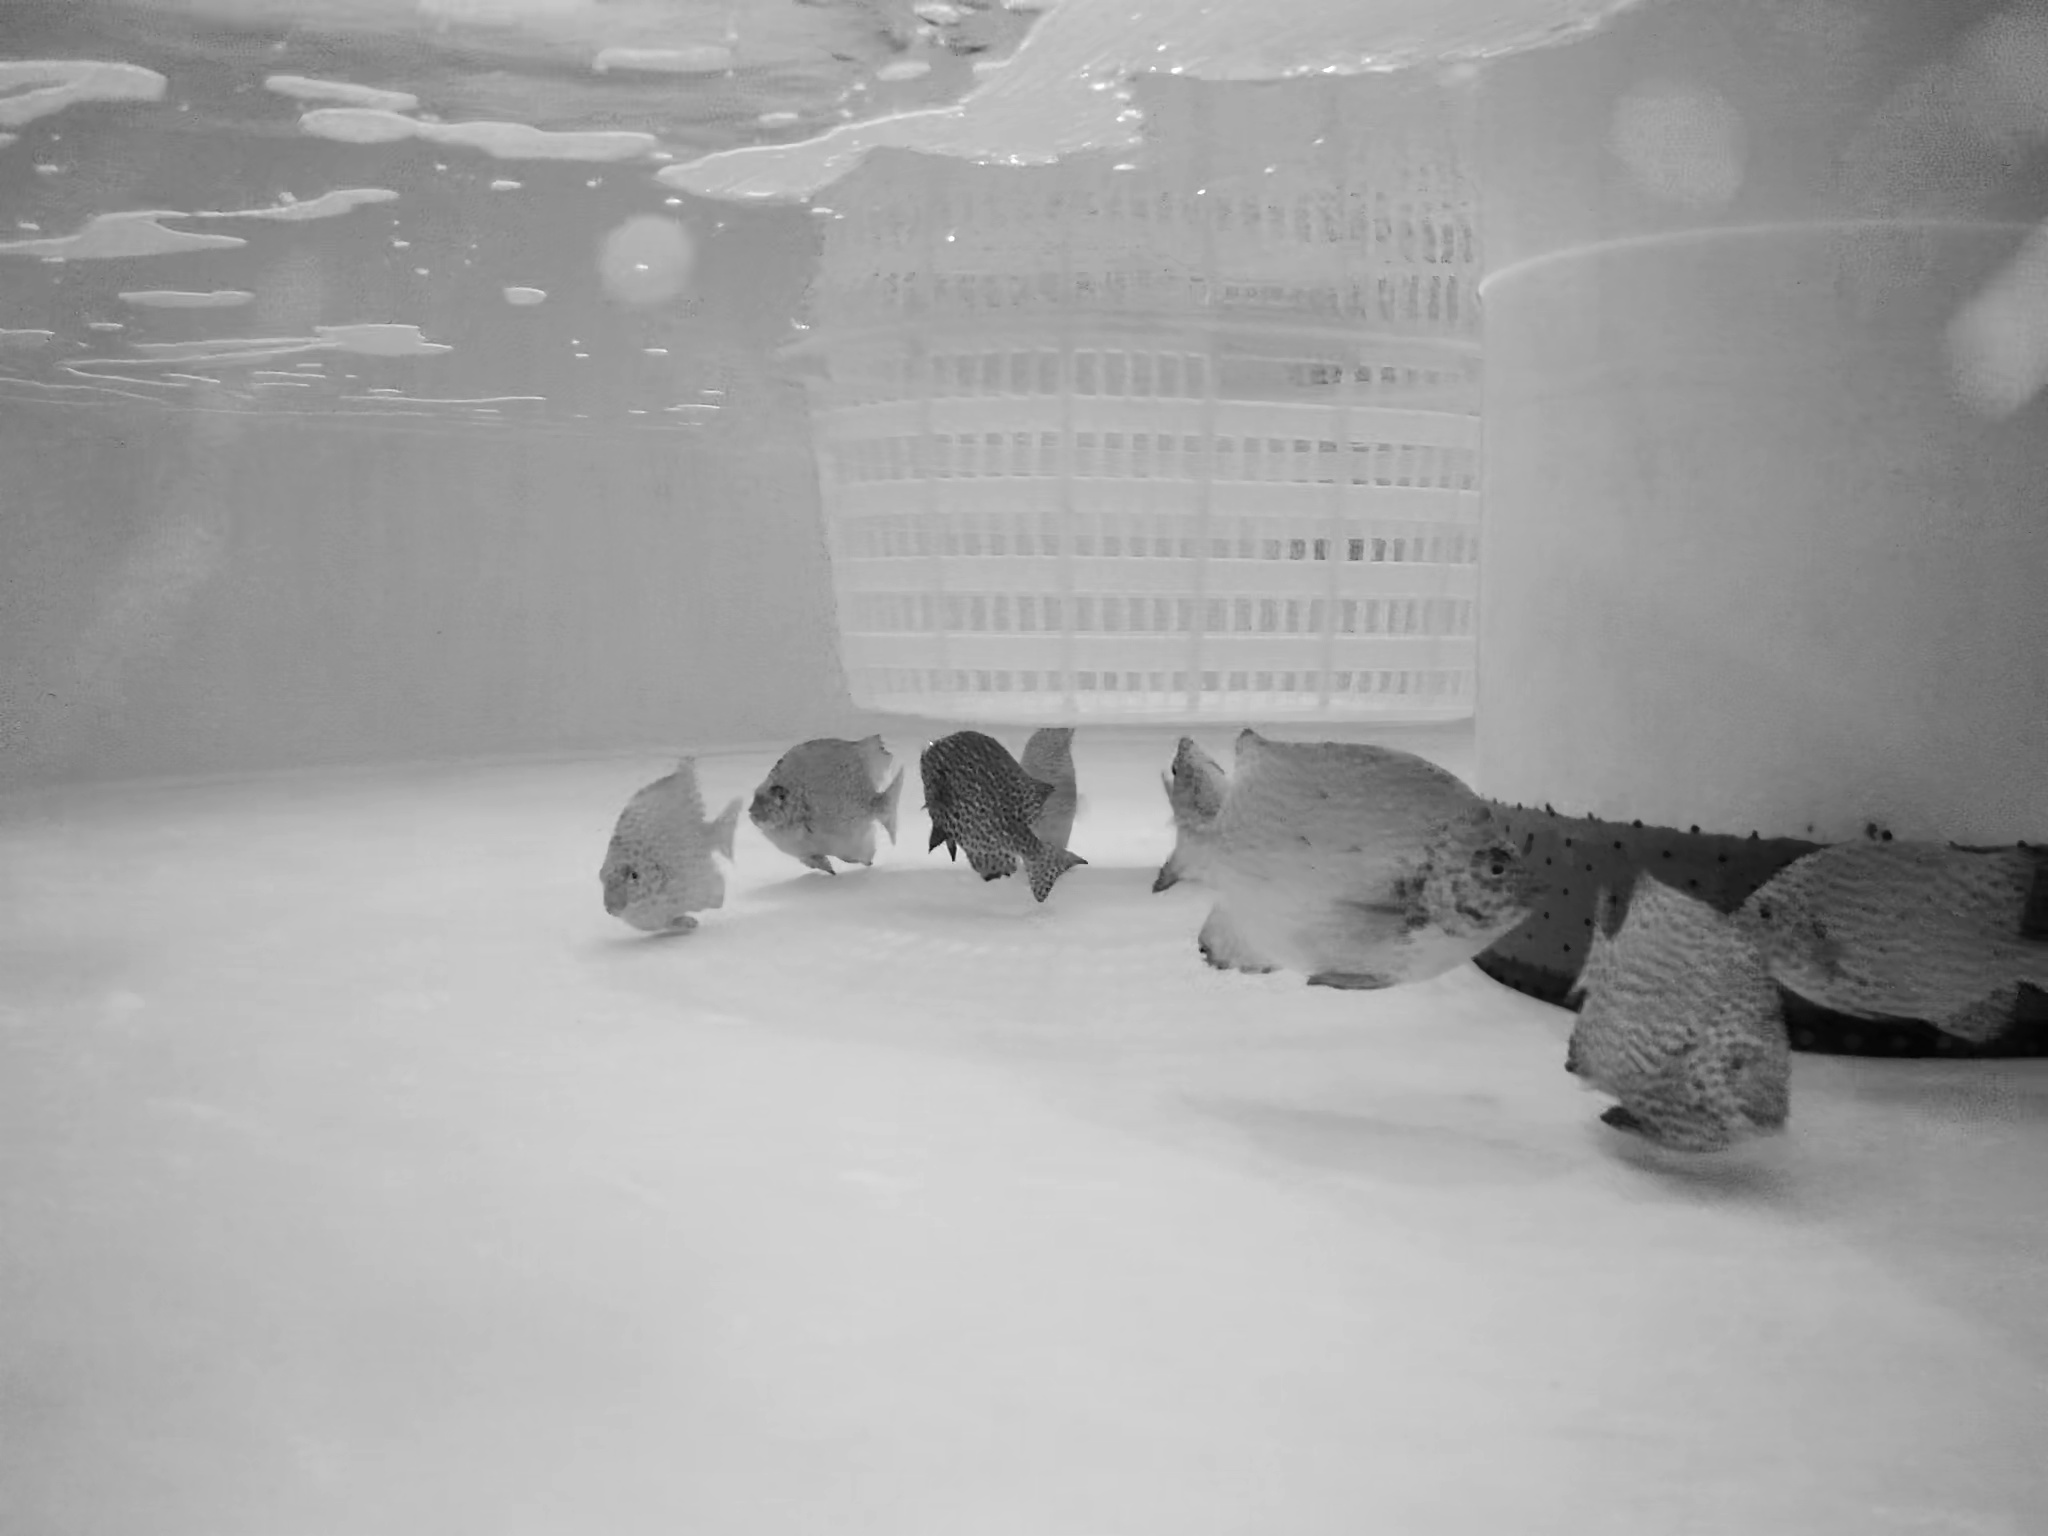fish: (1147, 729, 1543, 992), (1584, 837, 1795, 1170), (1745, 845, 2048, 1039), (919, 733, 1087, 908), (598, 768, 756, 929), (740, 736, 916, 876), (1014, 723, 1085, 883), (1177, 736, 1245, 874)
